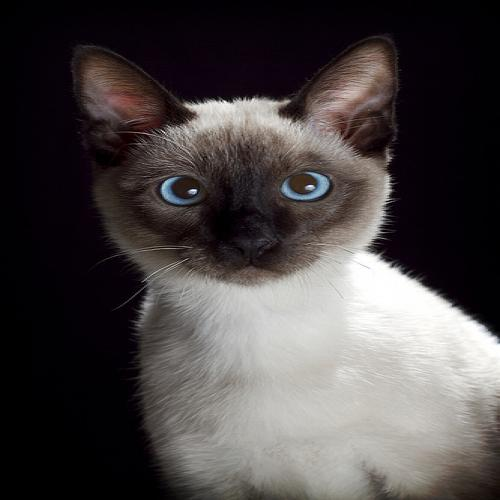siamese: (51, 36, 440, 305)
